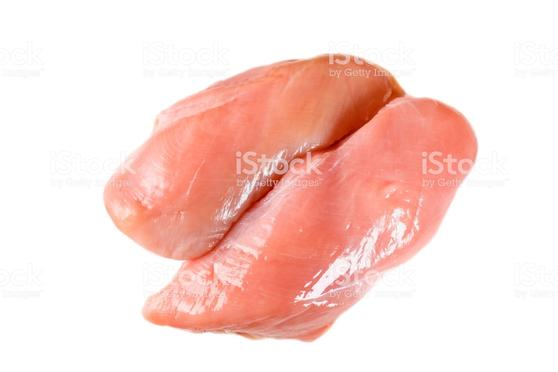chicken_fillet: (103, 51, 398, 259)
